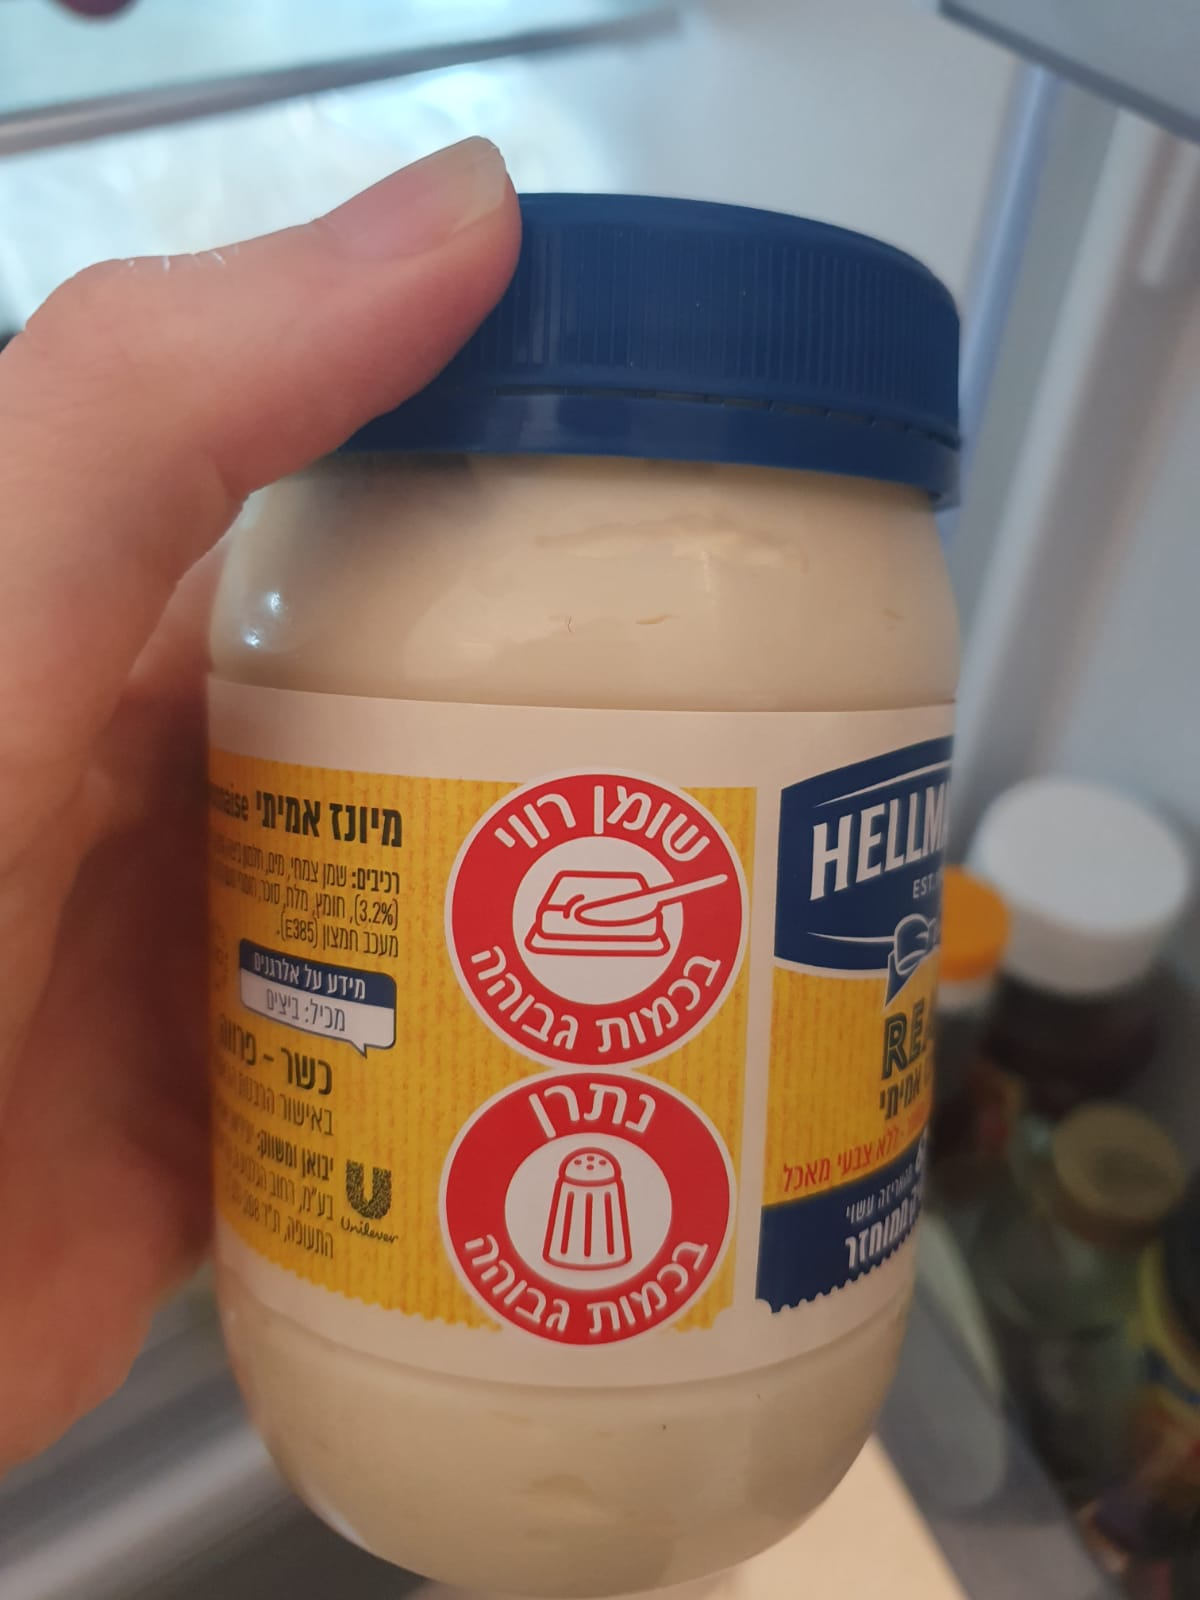fat: (441, 775, 749, 1075)
salt: (437, 1066, 741, 1348)
